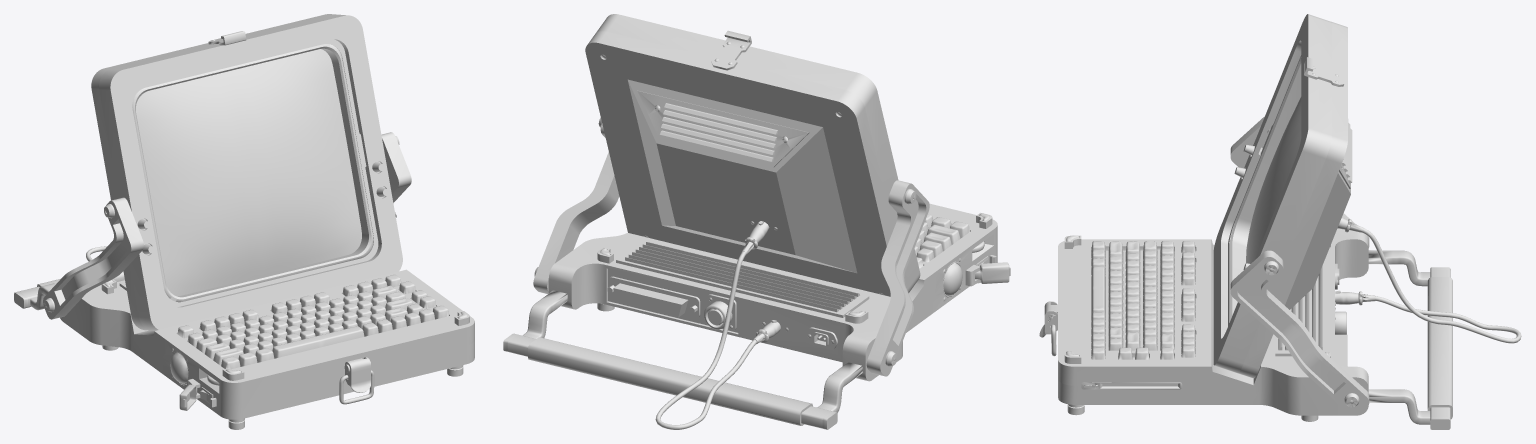
Rendered from Laptop.glb.
The picture shows the model from 3 angles, left to right: view 1: azimuth 30°, elevation 25°; view 2: azimuth 150°, elevation 25°; view 3: azimuth 270°, elevation 25°; orthographic projection. The views are drawn at different scales.
Visible parts, largest first — view 1: laptop, screen; view 2: laptop; view 3: laptop, screen.
Part boxes in pixels (box(x1,y1,x2,y2)): laptop: box(14, 14, 474, 429); screen: box(136, 49, 361, 296); laptop: box(503, 14, 1010, 429); laptop: box(1039, 14, 1521, 429); screen: box(1246, 97, 1301, 263).
Size of the model in its own units: 0.472 by 0.3854 by 0.5725.
2 materials, 1 textured.
